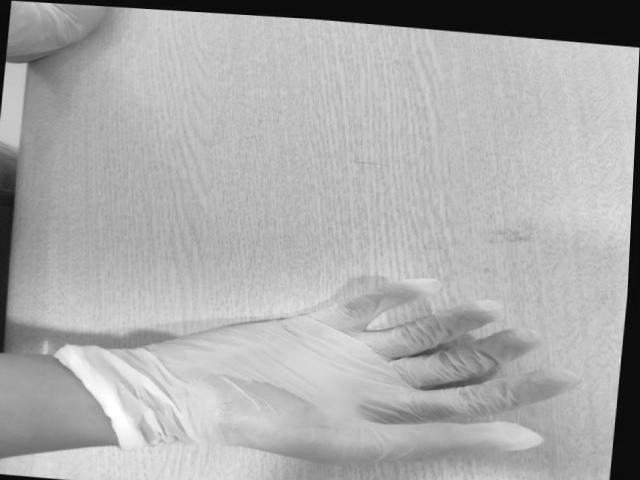gloved: (190, 281, 569, 464)
